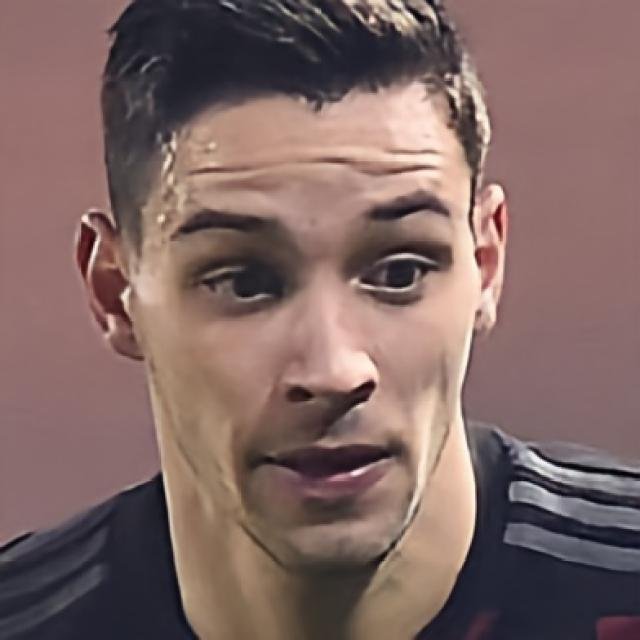surprise: (146, 66, 480, 579)
